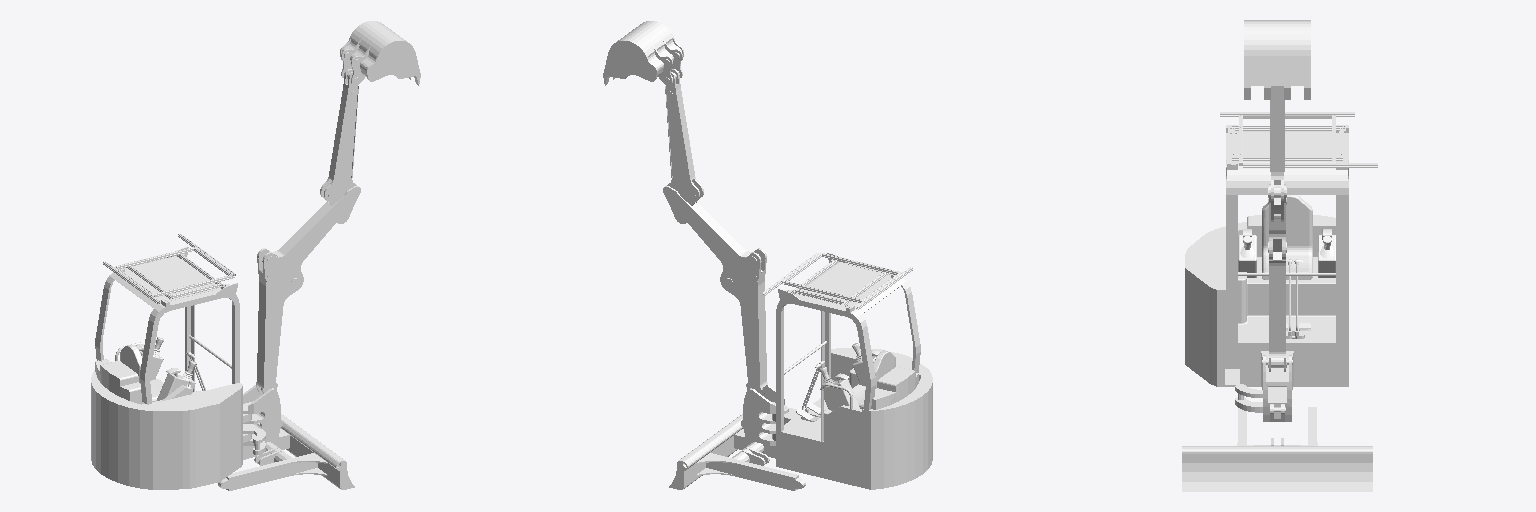
URDF robot description (CAT303CR_urdf_obj):
<?xml version="1.0" encoding="utf-8"?>
<!-- This URDF was automatically created by SolidWorks to URDF Exporter! Originally created by Stephen Brawner (brawner@gmail.com) 
     Commit Version: 1.6.0-4-g7f85cfe  Build Version: 1.6.7995.38578
     For more information, please see http://wiki.ros.org/sw_urdf_exporter -->
<robot
  name="CAT303CR_urdf_obj">
  <link
    name="base_link">
    <inertial>
      <origin
        xyz="0.01539 0 0.21667"
        rpy="0 0 0" />
      <mass
        value="521.64" />
      <inertia
        ixx="53.257"
        ixy="4.8889E-15"
        ixz="-1.4417"
        iyy="69.054"
        iyz="-8.8558E-16"
        izz="107.95" />
    </inertial>
    <visual>
      <origin
        xyz="0 0 0"
        rpy="0 0 0" />
      <geometry>
        <mesh
          filename="../meshes/base_link.obj" />
      </geometry>
      <material
        name="">
        <color
          rgba="1 1 1 1" />
      </material>
    </visual>
    <collision>
      <origin
        xyz="0 0 0"
        rpy="0 0 0" />
      <geometry>
        <mesh
          filename="../meshes/base_link.obj" />
      </geometry>
    </collision>
  </link>
  <link
    name="cabin_Link">
    <inertial>
      <origin
        xyz="-0.11405 -0.064813 0.45143"
        rpy="0 0 0" />
      <mass
        value="1216.8" />
      <inertia
        ixx="304.73"
        ixy="14.815"
        ixz="16.457"
        iyy="304.96"
        iyz="-0.2083"
        izz="315.38" />
    </inertial>
    <visual>
      <origin
        xyz="0 0 0"
        rpy="0 0 0" />
      <geometry>
        <mesh
          filename="../meshes/cabin_Link.obj" />
      </geometry>
      <material
        name="">
        <color
          rgba="1 1 1 1" />
      </material>
    </visual>
    <collision>
      <origin
        xyz="0 0 0"
        rpy="0 0 0" />
      <geometry>
        <mesh
          filename="../meshes/cabin_Link.obj" />
      </geometry>
    </collision>
  </link>
  <joint
    name="cabin_joint"
    type="revolute">
    <origin
      xyz="0 0 0.49"
      rpy="0 0 0" />
    <parent
      link="base_link" />
    <child
      link="cabin_Link" />
    <axis
      xyz="0 0 -1" />
    <limit
      lower="-6.28"
      upper="6.28"
      effort="0"
      velocity="0" />
  </joint>
  <link
    name="rev_Link">
    <inertial>
      <origin
        xyz="0.200526630689212 -0.0194119141687121 -0.00195878179254366"
        rpy="0 0 0" />
      <mass
        value="26.6751421416071" />
      <inertia
        ixx="0.822138767438788"
        ixy="-0.07474442058596"
        ixz="-0.0510749624287177"
        iyy="0.920226579535997"
        iyz="-0.0627981420604525"
        izz="0.618651057518904" />
    </inertial>
    <visual>
      <origin
        xyz="0 0 0"
        rpy="0 0 0" />
      <geometry>
        <mesh
          filename="../meshes/rev_Link.obj" />
      </geometry>
      <material
        name="">
        <color
          rgba="1 1 1 1" />
      </material>
    </visual>
    <collision>
      <origin
        xyz="0 0 0"
        rpy="0 0 0" />
      <geometry>
        <mesh
          filename="../meshes/rev_Link.obj" />
      </geometry>
    </collision>
  </link>
  <joint
    name="rev_joint"
    type="revolute">
    <origin
      xyz="0.86391 0 0.175"
      rpy="0 0 0" />
    <parent
      link="cabin_Link" />
    <child
      link="rev_Link" />
    <axis
      xyz="0 0 1" />
    <limit
      lower="-6.28"
      upper="6.28"
      effort="0"
      velocity="0" />
  </joint>
  <link
    name="boom_Link">
    <inertial>
      <origin
        xyz="0.241799297015019 -1.13694434907406 -1.23892902899656E-16"
        rpy="0 0 0" />
      <mass
        value="70.1408263729102" />
      <inertia
        ixx="19.3852712358353"
        ixy="8.35058399479074"
        ixz="-3.16928164001285E-16"
        iyy="5.90154931865145"
        iyz="4.67379686962877E-16"
        izz="25.0339113404936" />
    </inertial>
    <visual>
      <origin
        xyz="0 0 0"
        rpy="0 0 0" />
      <geometry>
        <mesh
          filename="../meshes/boom_Link.obj" />
      </geometry>
      <material
        name="">
        <color
          rgba="1 1 1 1" />
      </material>
    </visual>
    <collision>
      <origin
        xyz="0 0 0"
        rpy="0 0 0" />
      <geometry>
        <mesh
          filename="../meshes/boom_Link.obj" />
      </geometry>
    </collision>
  </link>
  <joint
    name="boom_joint"
    type="revolute">
    <origin
      xyz="0.2899 0 0.315"
      rpy="-1.5708 0 0" />
    <parent
      link="rev_Link" />
    <child
      link="boom_Link" />
    <axis
      xyz="0 0 -1" />
    <limit
      lower="-6.28"
      upper="6.28"
      effort="0"
      velocity="0" />
  </joint>
  <link
    name="stick_Link">
    <inertial>
      <origin
        xyz="0.330640751648591 -0.262689444878419 1.41060556833889E-16"
        rpy="0 0 0" />
      <mass
        value="27.8858892712718" />
      <inertia
        ixx="0.754109119841832"
        ixy="1.61127289162212"
        ixz="-5.39279323153356E-17"
        iyy="4.41810018015841"
        iyz="7.63231073063206E-17"
        izz="5.11963307486665" />
    </inertial>
    <visual>
      <origin
        xyz="0 0 0"
        rpy="0 0 0" />
      <geometry>
        <mesh
          filename="../meshes/stick_Link.obj" />
      </geometry>
      <material
        name="">
        <color
          rgba="1 1 1 1" />
      </material>
    </visual>
    <collision>
      <origin
        xyz="0 0 0"
        rpy="0 0 0" />
      <geometry>
        <mesh
          filename="../meshes/stick_Link.obj" />
      </geometry>
    </collision>
  </link>
  <joint
    name="stick_joint"
    type="revolute">
    <origin
      xyz="0.97568 -1.9806 0"
      rpy="0 0 -1.1131" />
    <parent
      link="boom_Link" />
    <child
      link="stick_Link" />
    <axis
      xyz="0 0 -1" />
    <limit
      lower="-6.28"
      upper="6.28"
      effort="0"
      velocity="0" />
  </joint>
  <link
    name="bucket_Link">
    <inertial>
      <origin
        xyz="0.202891271683752 0.316327322352407 1.41814808039781E-16"
        rpy="0 0 0" />
      <mass
        value="29.7286200281155" />
      <inertia
        ixx="2.32184317184921"
        ixy="-0.0201444941065581"
        ixz="1.36242493634409E-17"
        iyy="1.50386495773506"
        iyz="-6.13021683273387E-16"
        izz="1.84730258236483" />
    </inertial>
    <visual>
      <origin
        xyz="0 0 0"
        rpy="0 0 0" />
      <geometry>
        <mesh
          filename="../meshes/bucket_Link.obj" />
      </geometry>
      <material
        name="">
        <color
          rgba="1 1 1 1" />
      </material>
    </visual>
    <collision>
      <origin
        xyz="0 0 0"
        rpy="0 0 0" />
      <geometry>
        <mesh
          filename="../meshes/bucket_Link.obj" />
      </geometry>
    </collision>
  </link>
  <joint
    name="bucket_joint"
    type="revolute">
    <origin
      xyz="1.1312 -0.55725 0"
      rpy="0 0 -0.45773" />
    <parent
      link="stick_Link" />
    <child
      link="bucket_Link" />
    <axis
      xyz="0 0 -1" />
    <limit
      lower="-6.28"
      upper="6.28"
      effort="0"
      velocity="0" />
  </joint>
  <link
    name="pedal1_Link">
    <inertial>
      <origin
        xyz="0.00217806887205035 0.126505998261783 -0.0334247445708572"
        rpy="0 0 0" />
      <mass
        value="0.958677940386786" />
      <inertia
        ixx="0.0287216441999266"
        ixy="-0.00358246258675839"
        ixz="-1.31088244066506E-05"
        iyy="0.00345301909479394"
        iyz="0.00102468766664704"
        izz="0.0312175029585488" />
    </inertial>
    <visual>
      <origin
        xyz="0 0 0"
        rpy="0 0 0" />
      <geometry>
        <mesh
          filename="../meshes/pedal1_Link.obj" />
      </geometry>
      <material
        name="">
        <color
          rgba="1 1 1 1" />
      </material>
    </visual>
    <collision>
      <origin
        xyz="0 0 0"
        rpy="0 0 0" />
      <geometry>
        <mesh
          filename="../meshes/pedal1_Link.obj" />
      </geometry>
    </collision>
  </link>
  <joint
    name="pedal1_joint"
    type="revolute">
    <origin
      xyz="0.44391 0.22014 0.38"
      rpy="1.5708 0 3.1416" />
    <parent
      link="cabin_Link" />
    <child
      link="pedal1_Link" />
    <axis
      xyz="0 0 -1" />
    <limit
      lower="-6.28"
      upper="6.28"
      effort="0"
      velocity="0" />
  </joint>
  <link
    name="pedal2_Link">
    <inertial>
      <origin
        xyz="-0.0019607192570324 0.126506684251541 0.000977562853780437"
        rpy="0 0 0" />
      <mass
        value="0.958679528351192" />
      <inertia
        ixx="0.0287218882726506"
        ixy="-0.00358251925575157"
        ixz="1.30998629446853E-05"
        iyy="0.00345303510278483"
        iyz="-0.00102472922003058"
        izz="0.0312177570644897" />
    </inertial>
    <visual>
      <origin
        xyz="0 0 0"
        rpy="0 0 0" />
      <geometry>
        <mesh
          filename="../meshes/pedal2_Link.obj" />
      </geometry>
      <material
        name="">
        <color
          rgba="1 1 1 1" />
      </material>
    </visual>
    <collision>
      <origin
        xyz="0 0 0"
        rpy="0 0 0" />
      <geometry>
        <mesh
          filename="../meshes/pedal2_Link.obj" />
      </geometry>
    </collision>
  </link>
  <joint
    name="pedal2_joint"
    type="revolute">
    <origin
      xyz="0.43977 0.072584 0.38"
      rpy="1.5708 0 -3.1416" />
    <parent
      link="cabin_Link" />
    <child
      link="pedal2_Link" />
    <axis
      xyz="0 0 1" />
    <limit
      lower="-6.28"
      upper="6.28"
      effort="0"
      velocity="0" />
  </joint>
  <link
    name="bulldozer_Link">
    <inertial>
      <origin
        xyz="-0.922911969612226 0.013191235264968 -1.52463049132849E-16"
        rpy="0 0 0" />
      <mass
        value="90.1137030111788" />
      <inertia
        ixx="13.6384487172176"
        ixy="0.0796847181330669"
        ixz="0.0174819866988857"
        iyy="21.8698212511802"
        iyz="0.00148808684628118"
        izz="9.36186151810711" />
    </inertial>
    <visual>
      <origin
        xyz="0 0 0"
        rpy="0 0 0" />
      <geometry>
        <mesh
          filename="../meshes/bulldozer_Link.obj" />
      </geometry>
      <material
        name="">
        <color
          rgba="1 1 1 1" />
      </material>
    </visual>
    <collision>
      <origin
        xyz="0 0 0"
        rpy="0 0 0" />
      <geometry>
        <mesh
          filename="../meshes/bulldozer_Link.obj" />
      </geometry>
    </collision>
  </link>
  <joint
    name="bulldozer_joint"
    type="revolute">
    <origin
      xyz="0.475 0 0.21"
      rpy="1.5708 0 3.1416" />
    <parent
      link="base_link" />
    <child
      link="bulldozer_Link" />
    <axis
      xyz="0 0 -1" />
    <limit
      lower="-6.28"
      upper="6.28"
      effort="0"
      velocity="0" />
  </joint>
</robot>

--- Facts derived from the render (not from the file) ---
Views: 3 orthographic renders of the robot side by side, from view 1: azimuth 30°, elevation 25°; view 2: azimuth 150°, elevation 25°; view 3: azimuth 270°, elevation 25°.
Model CAT303CR_urdf_obj with 9 links and 8 joints (8 revolute), rooted at base_link, posed all joints at 0.
Links seen in each view (by area): view 1: cabin_Link, boom_Link, bulldozer_Link, bucket_Link, stick_Link, rev_Link; view 2: cabin_Link, boom_Link, bulldozer_Link, bucket_Link, stick_Link, rev_Link; view 3: cabin_Link, bulldozer_Link, bucket_Link, boom_Link, rev_Link, stick_Link.
Link boxes in pixels (x1,y1,x2,y2): cabin_Link: [91, 234, 251, 489]; boom_Link: [256, 183, 360, 394]; bulldozer_Link: [218, 414, 354, 490]; bucket_Link: [340, 21, 420, 85]; stick_Link: [320, 69, 358, 223]; rev_Link: [243, 385, 282, 454]; cabin_Link: [762, 253, 932, 489]; boom_Link: [663, 183, 767, 394]; bulldozer_Link: [669, 414, 805, 490]; bucket_Link: [603, 21, 683, 85]; stick_Link: [665, 69, 703, 223]; rev_Link: [741, 385, 788, 445]; cabin_Link: [1185, 112, 1377, 389]; bulldozer_Link: [1182, 407, 1372, 491]; bucket_Link: [1244, 20, 1310, 99]; boom_Link: [1268, 184, 1286, 371]; rev_Link: [1235, 355, 1292, 421]; stick_Link: [1270, 86, 1284, 221].
Bounding box of the posed robot: 3.55 × 1.59 × 4.56 m (x, y, z).
8 mesh visuals loaded from 9 distinct referenced files (8 OBJ); not drawn: 1 (reference not matched to a file when rendering).
